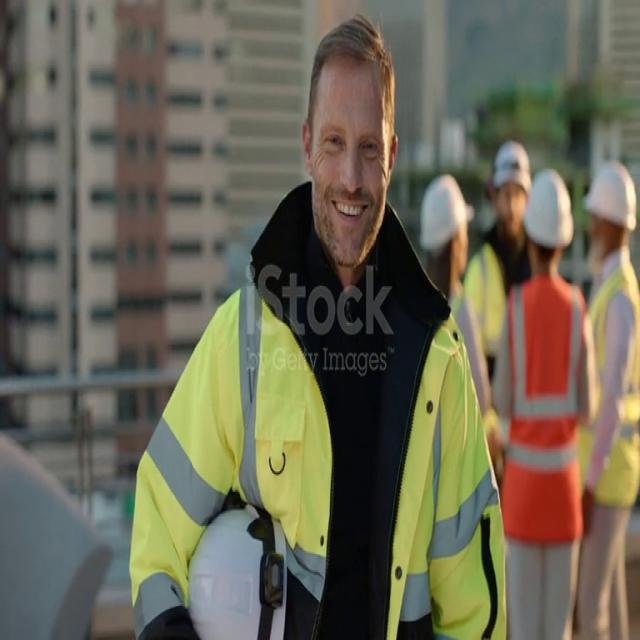capacete: (179, 481, 304, 640), (581, 140, 640, 236), (519, 170, 579, 257), (418, 171, 478, 248), (486, 124, 534, 197)
